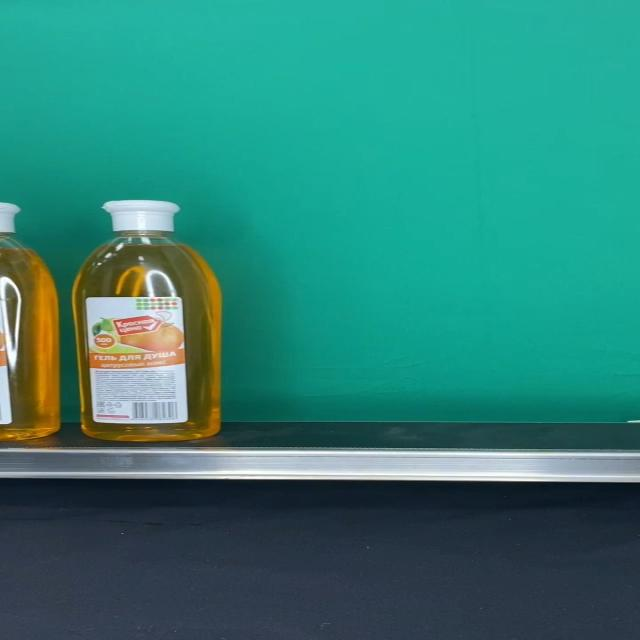Bottle: (73, 201, 222, 440)
Cap: (100, 201, 180, 232)
